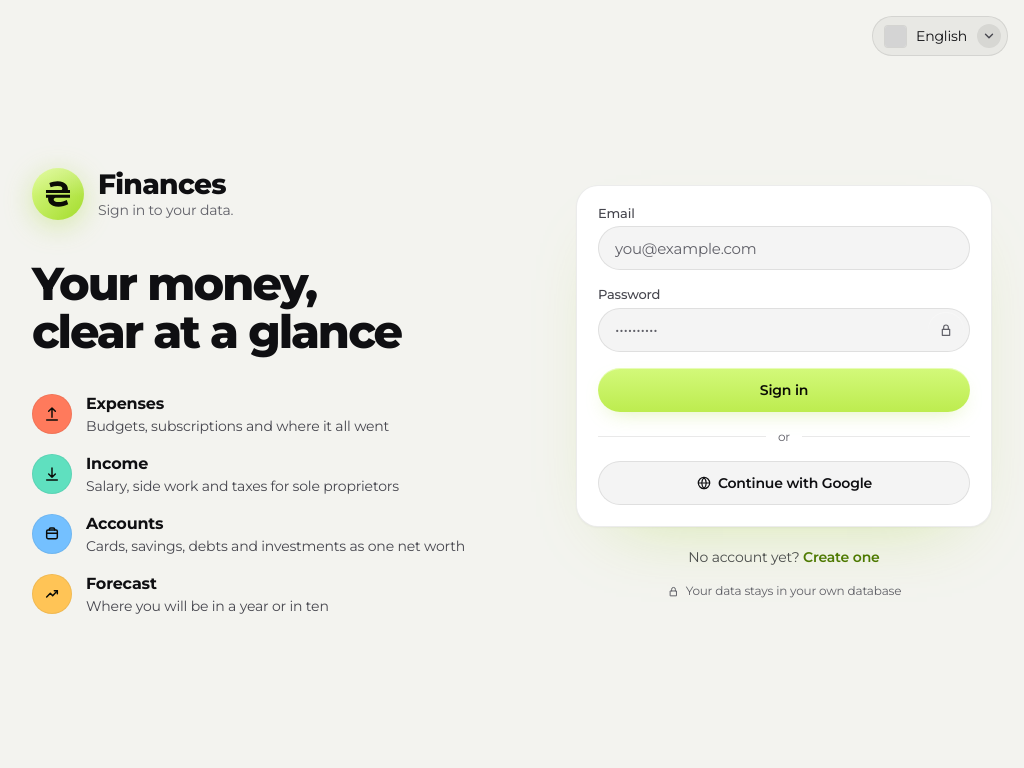
Scenario: SignInPage › asks again for a wrong code and goes back to the account form
Step 1. Type "me@example.com" into the field with placeholder "you@example.com" → (784, 248), box [598,226,970,270]
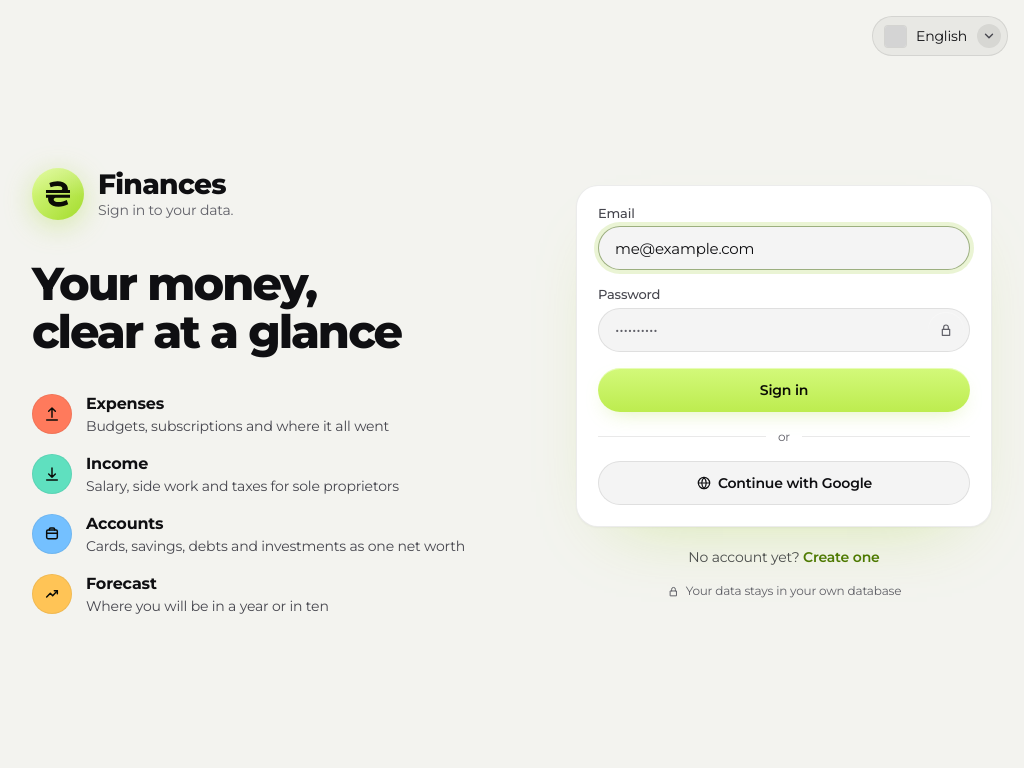
Step 2. Type "secret" into the password field with placeholder "••••••••••" → (784, 330), box [598,308,970,352]
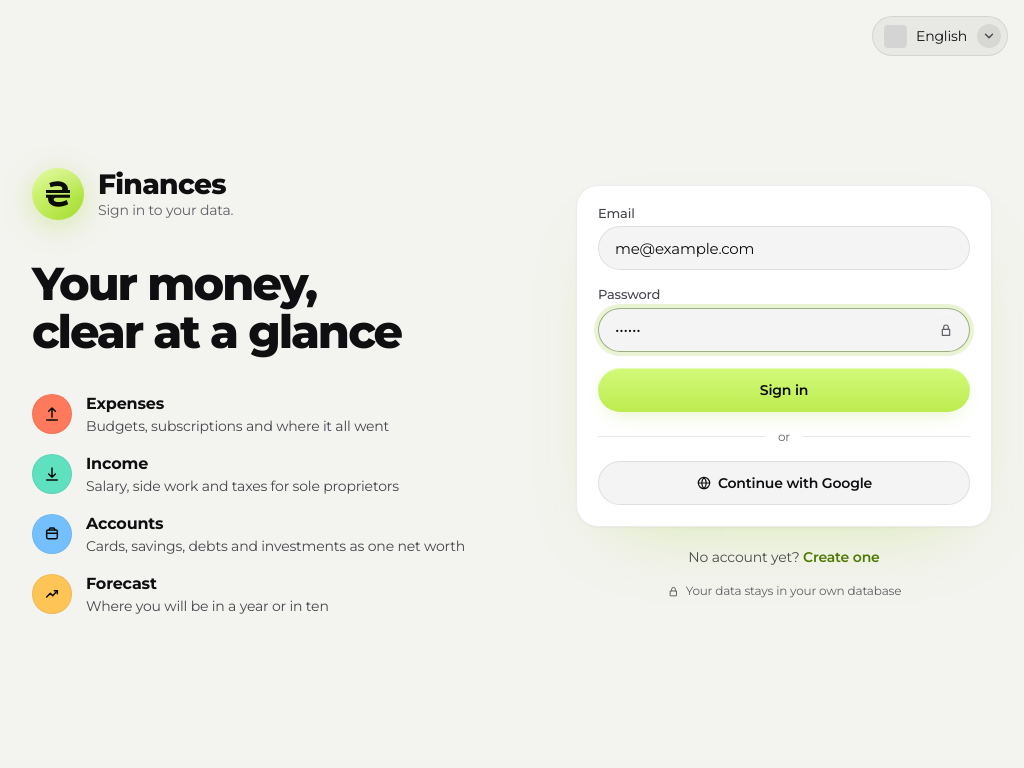
Step 3. Click the button "Sign in" → (784, 390), box [598,368,970,412]
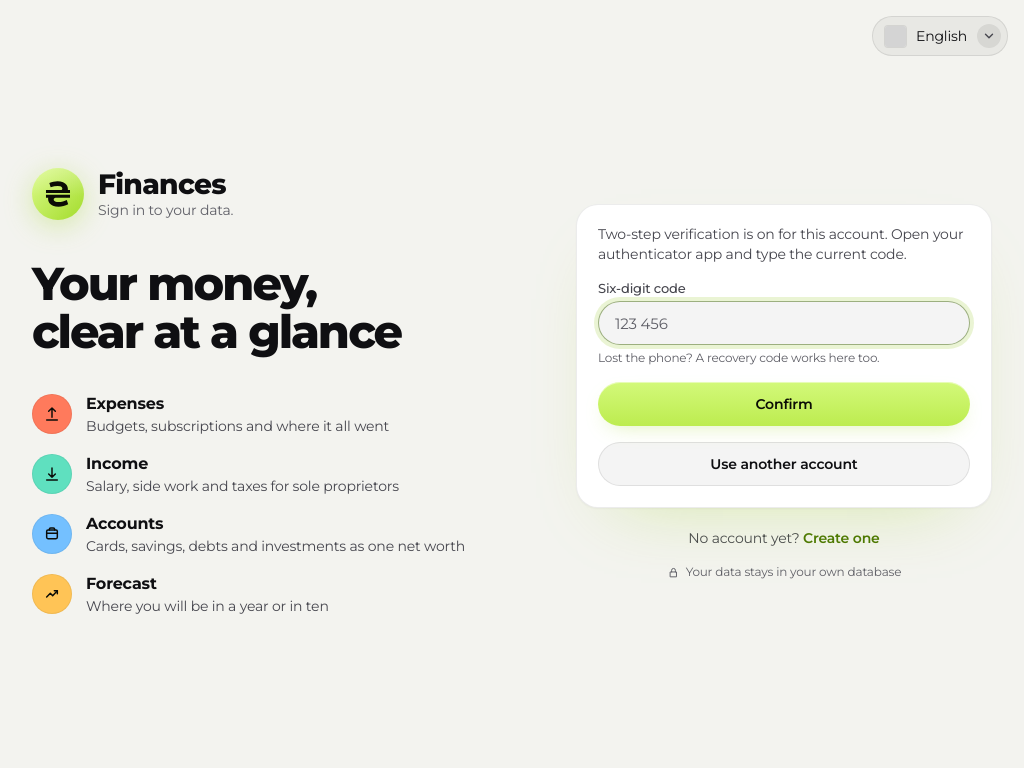
Expected: the button "Continue with Google" is gone
Step 4. Type "123456" into the field with placeholder "123 456" → (784, 323), box [598,301,970,345]
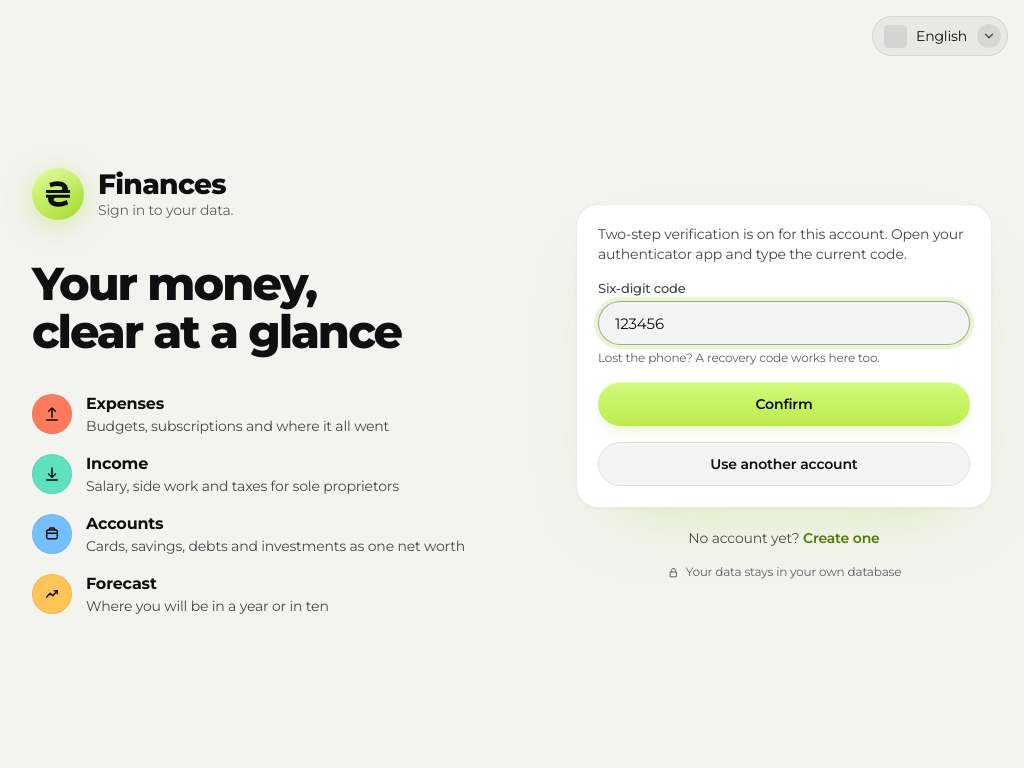
Step 5. Click the button "Confirm" → (784, 404), box [598,382,970,426]
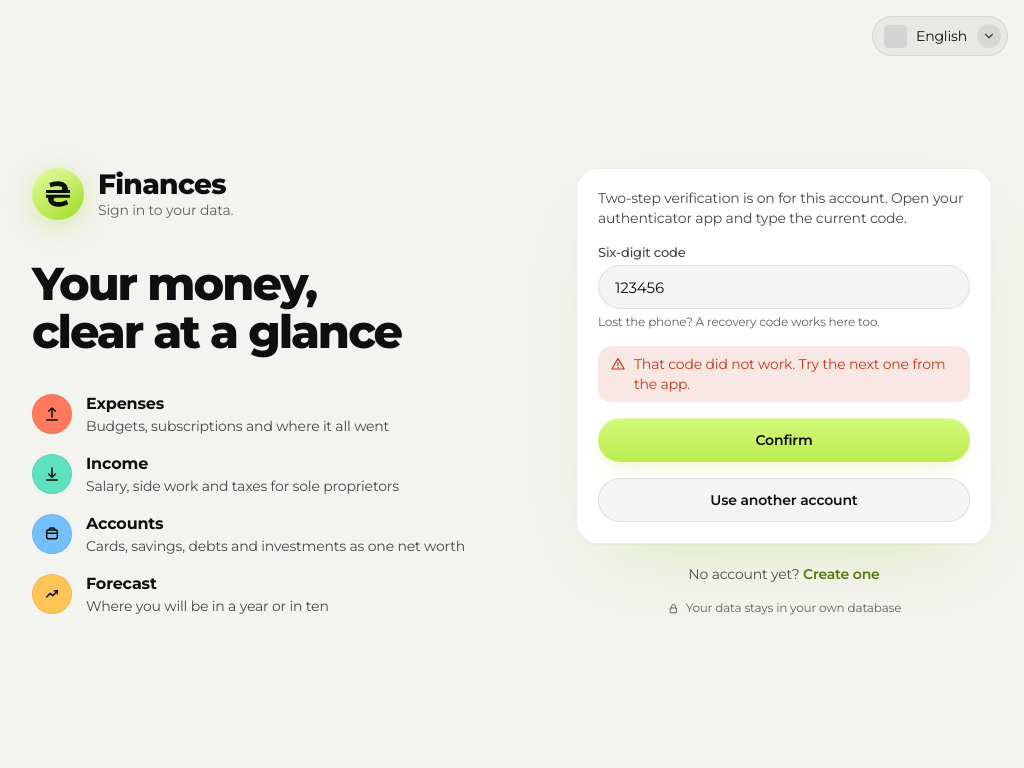
Expected: the text "That code did not work. Try the next one from the app." is shown, [598,346,970,402]
Step 6. Click the button "Use another account" → (784, 500), box [598,478,970,522]
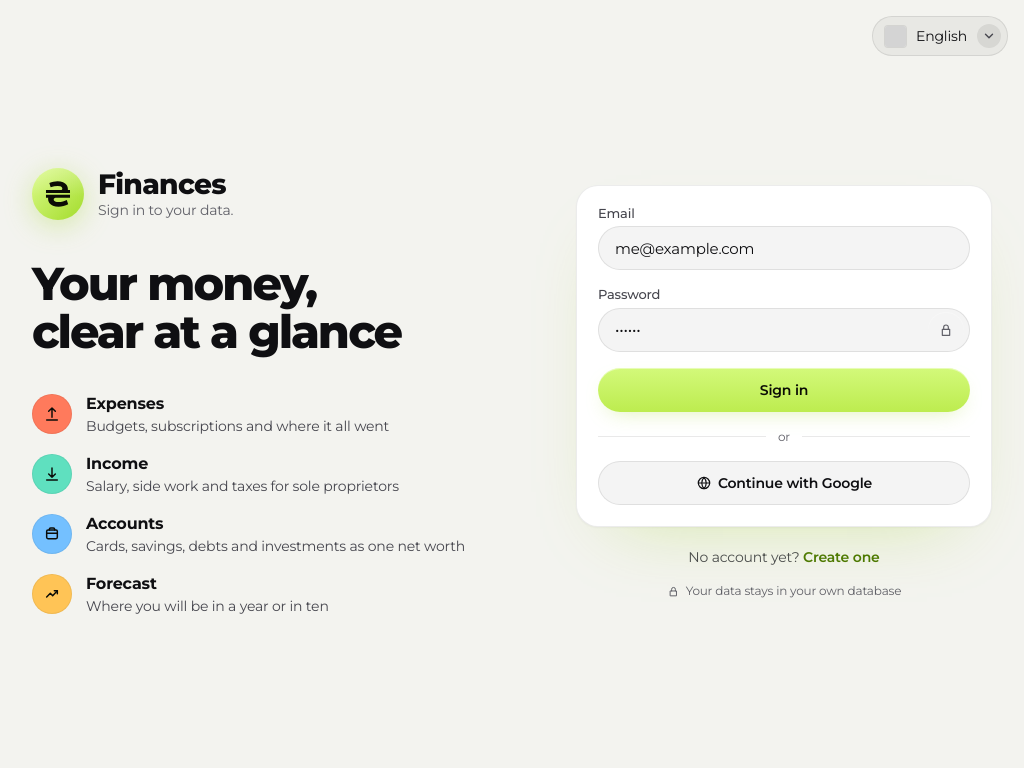
Expected: the field with placeholder "you@example.com" holds "me@example.com", [598,226,970,270]
Expected: the text "That code did not work" is gone
